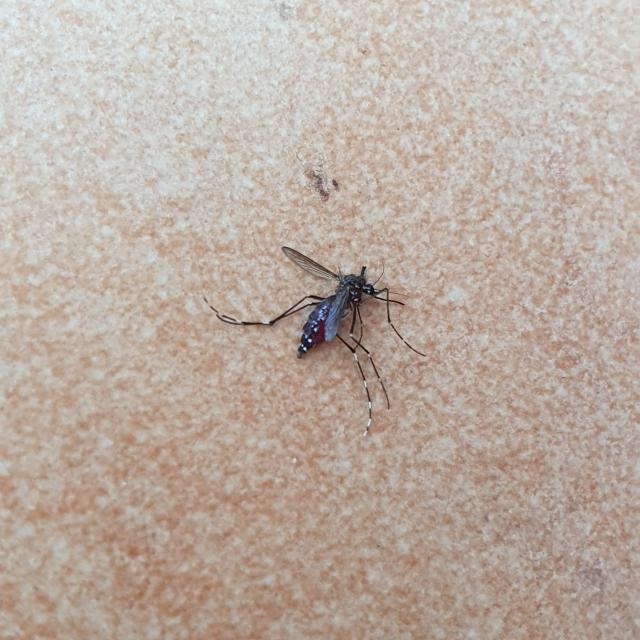albopictus: (208, 236, 428, 434)
